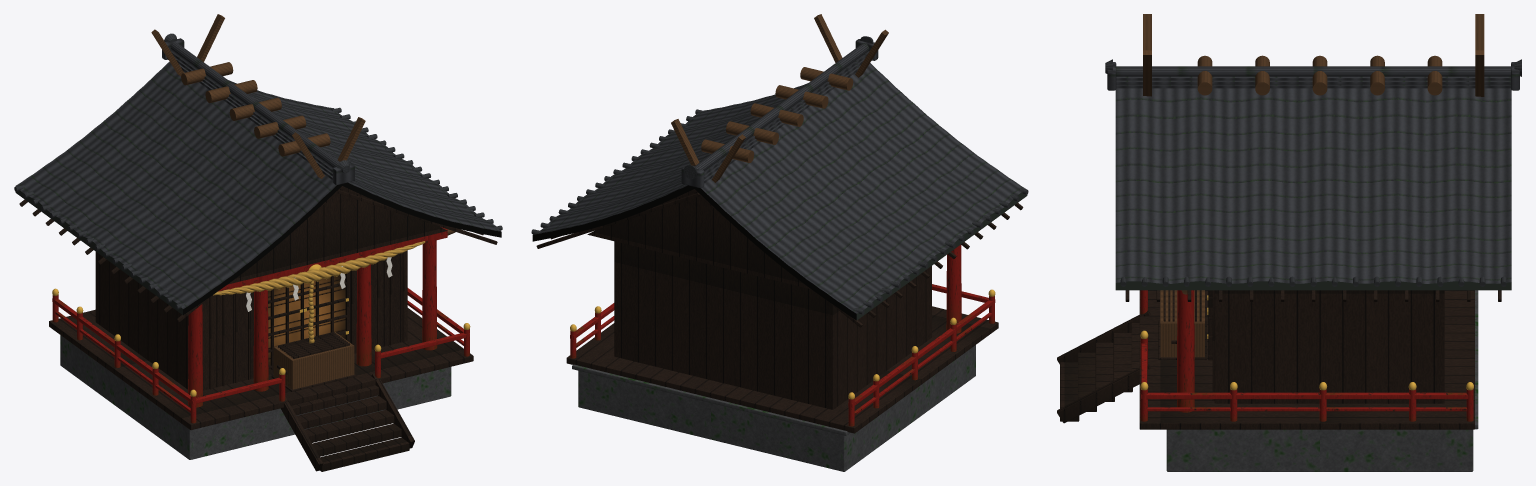
Rendered from YugiriShrine_Hokora.fbx.
3 renders of one model, left to right at view 1: azimuth 30°, elevation 25°; view 2: azimuth 150°, elevation 25°; view 3: azimuth 270°, elevation 25°, orthographic. The views are drawn at different scales.
Visible parts, largest first — view 1: YugiriShrine_Hokora; view 2: YugiriShrine_Hokora; view 3: YugiriShrine_Hokora.
Part boxes in pixels (x1=…): YugiriShrine_Hokora: x1=14, y1=14, x2=502, y2=471; YugiriShrine_Hokora: x1=531, y1=14, x2=1028, y2=471; YugiriShrine_Hokora: x1=1057, y1=14, x2=1521, y2=471.
Size of the model in its own units: 6.94 by 6.3 by 7.28.
